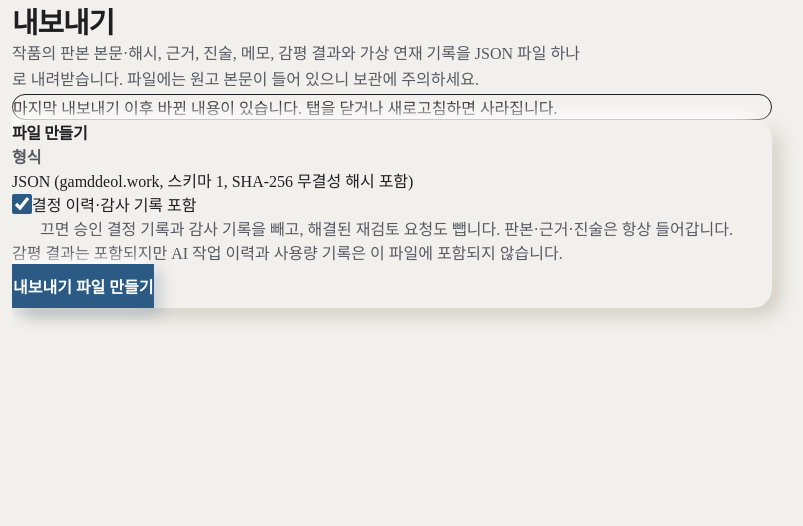
Test: 내보내기 저장 확인 › 다운로드 요청만으로는 백업 완료를 표시하지 않고, 확인한 파일 이후 변경은 경고한다
Later steps or results of the test are not shown.
Click the button "내보내기 파일 만들기" at (83, 286), box [12,264,154,308]
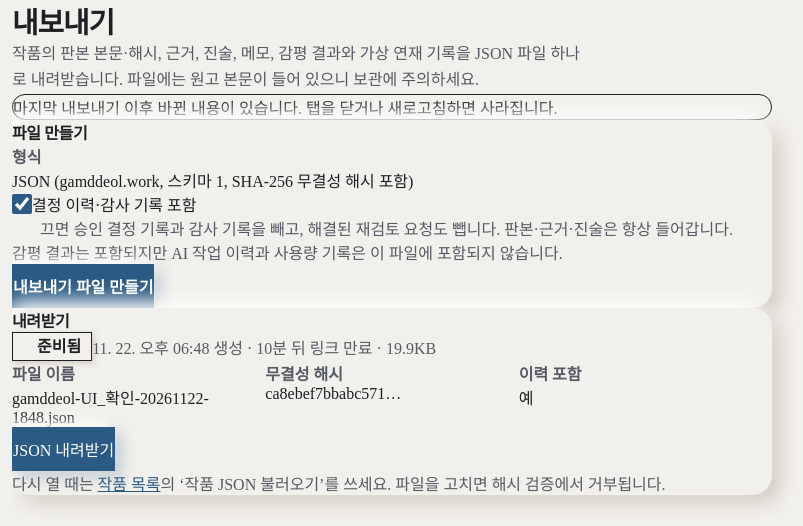
Check: the link "JSON 내려받기" is shown, box [12,427,115,471]
